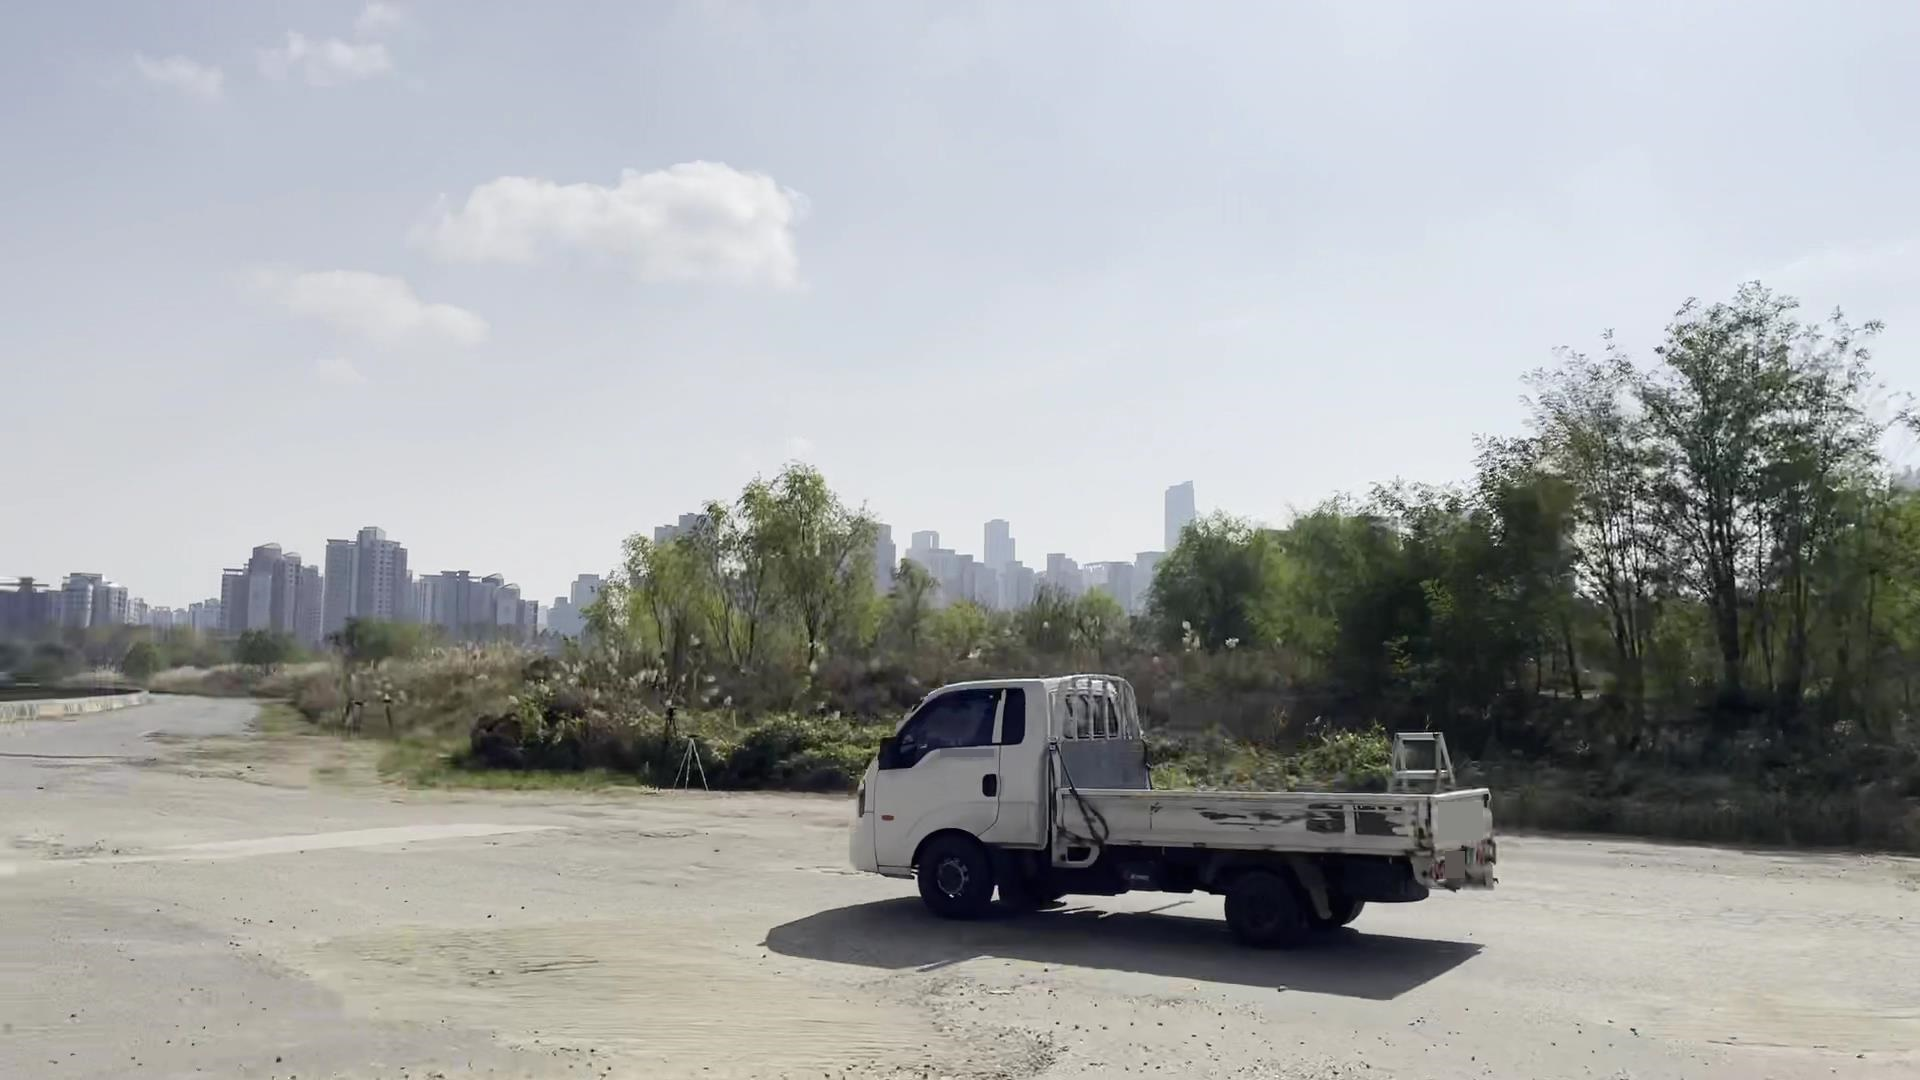불법차량: (850, 673, 1501, 946)
